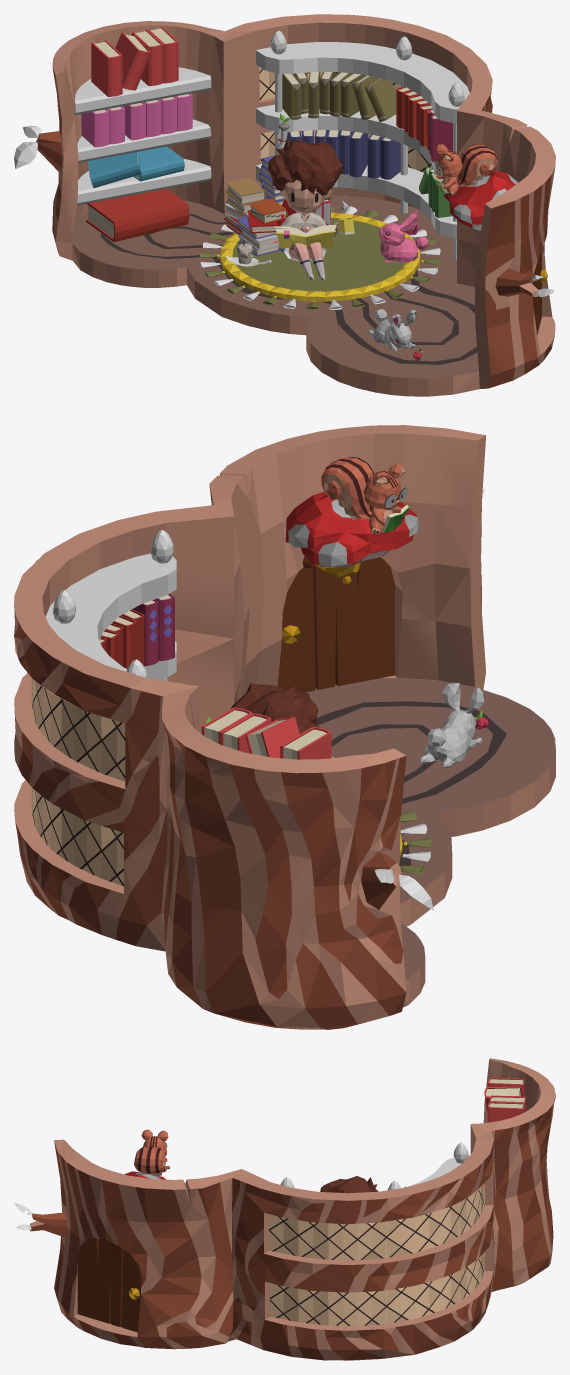
The model's file is 0039_secretLibrary.fbx.
3 views of the same model, one above another, from view 1: azimuth 30°, elevation 25°; view 2: azimuth 150°, elevation 25°; view 3: azimuth 270°, elevation 25° (orthographic). The views are drawn at different scales.
Parts seen in each view (by area): view 1: Stage01_bottom, Stage01, BS1_Board (×3), Carpet, BS2_Board (×3), BS2_Mg_Book (×4), BS1_Khaki_Book (×6), boy_Head, BS2_Red_Book, BS2_Pink_Book (×5), BS1_Pillar (×3), Mushroom (+18 smaller); view 2: Stage01_bottom, Stage01, Door, window_Glass (×2), BS1_Board, Mushroom (×2), BS2_Mg_Book (×4), W_Rabbit, boy_Head, CM_Tail, BS1_Purple_Book (×2), CM_body (+1 smaller); view 3: Stage01_bottom, window_Glass (×2), Door, BS2_Mg_Book (×2), CM_Tail, boy_Head, CM_body.
Boxes of the visible parts, box(x1,y1,x2,y2) form: Stage01_bottom: box(36, 14, 555, 388); Stage01: box(72, 195, 479, 396); BS1_Board (×3): box(256, 42, 469, 238); Carpet: box(220, 212, 420, 301); BS2_Board (×3): box(75, 67, 211, 205); BS2_Mg_Book (×4): box(91, 26, 178, 96); BS1_Khaki_Book (×6): box(282, 72, 396, 121); boy_Head: box(268, 137, 343, 215); BS2_Red_Book: box(86, 188, 189, 242); BS2_Pink_Book (×5): box(81, 93, 192, 147); BS1_Pillar (×3): box(270, 30, 464, 260); Mushroom: box(449, 170, 517, 224); Stage01_bottom: box(14, 425, 485, 1029); Stage01: box(43, 678, 555, 1029); Door: box(277, 557, 394, 693); window_Glass (×2): box(31, 678, 125, 886); BS1_Board: box(45, 553, 176, 671); Mushroom (×2): box(285, 492, 419, 577); BS2_Mg_Book (×4): box(201, 707, 331, 759); W_Rabbit: box(419, 682, 484, 768); boy_Head: box(231, 683, 319, 733); CM_Tail: box(321, 457, 373, 520); BS1_Purple_Book (×2): box(132, 593, 174, 665); CM_body: box(363, 463, 404, 533); Stage01_bottom: box(30, 1058, 555, 1360); window_Glass (×2): box(269, 1183, 484, 1325); Door: box(77, 1237, 141, 1332); BS2_Mg_Book (×2): box(484, 1086, 524, 1122); CM_Tail: box(134, 1146, 165, 1176); boy_Head: box(320, 1176, 378, 1193); CM_body: box(141, 1129, 170, 1172).
Size of the model in its own units: 7.29 by 3.9 by 10.58.
